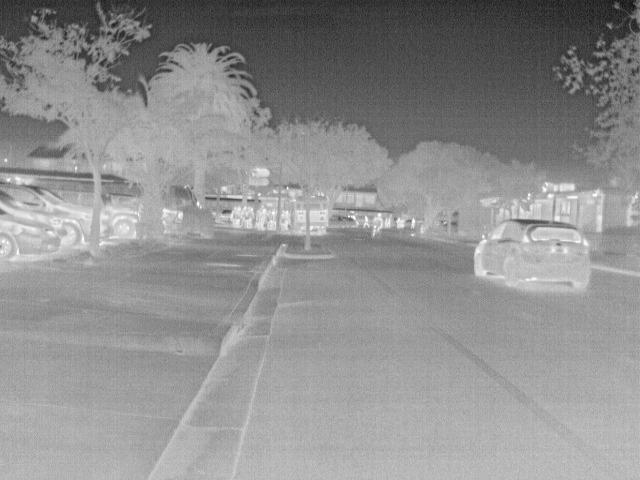car: (473, 221, 593, 292), (1, 183, 97, 247), (2, 206, 66, 264), (101, 201, 145, 240), (164, 209, 186, 235)
person: (370, 212, 386, 234), (361, 214, 373, 230)
